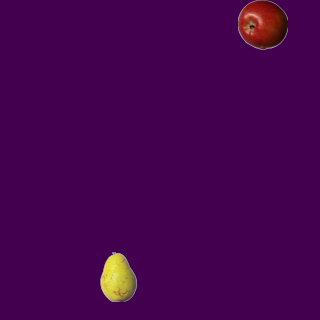Apple Braeburn: (237, 0, 287, 49)
Pear Monster: (93, 251, 143, 301)
